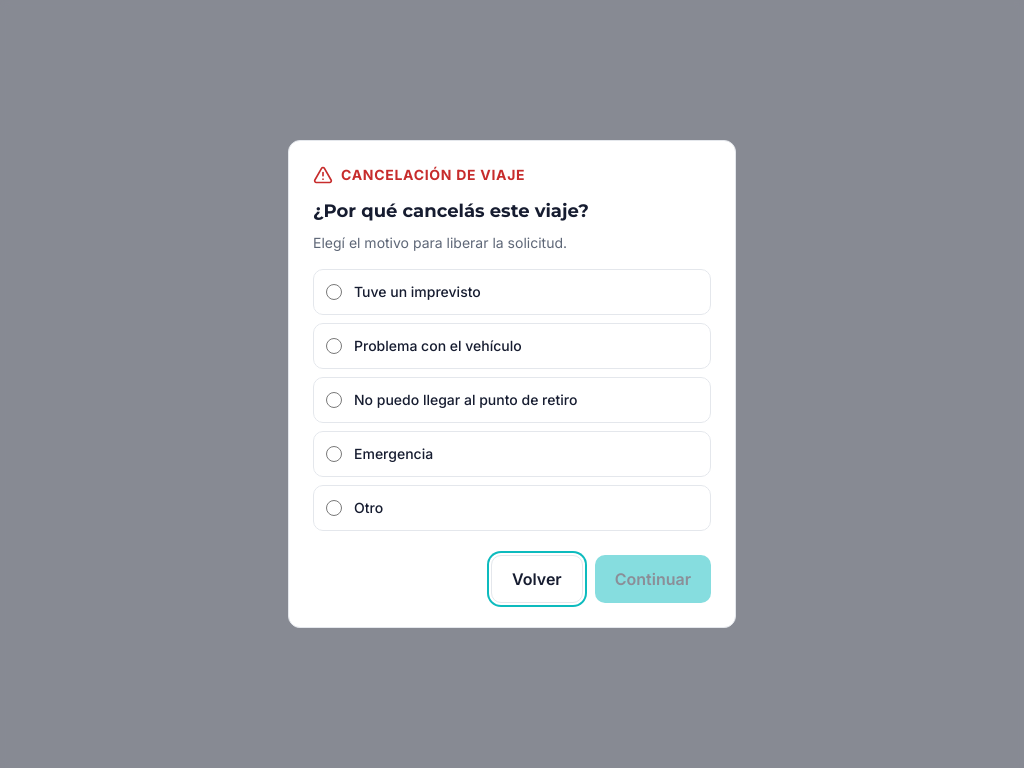
Test: T-362: TripCancelDialog por rol › Rol Repartidor (actor="courier") › copy de confirmación en paso 2 advierte sobre liberación/republicación del viaje
Click the radio button labelled "Tuve un imprevisto": click(334, 292) top-left (326, 284), bottom-right (342, 300)
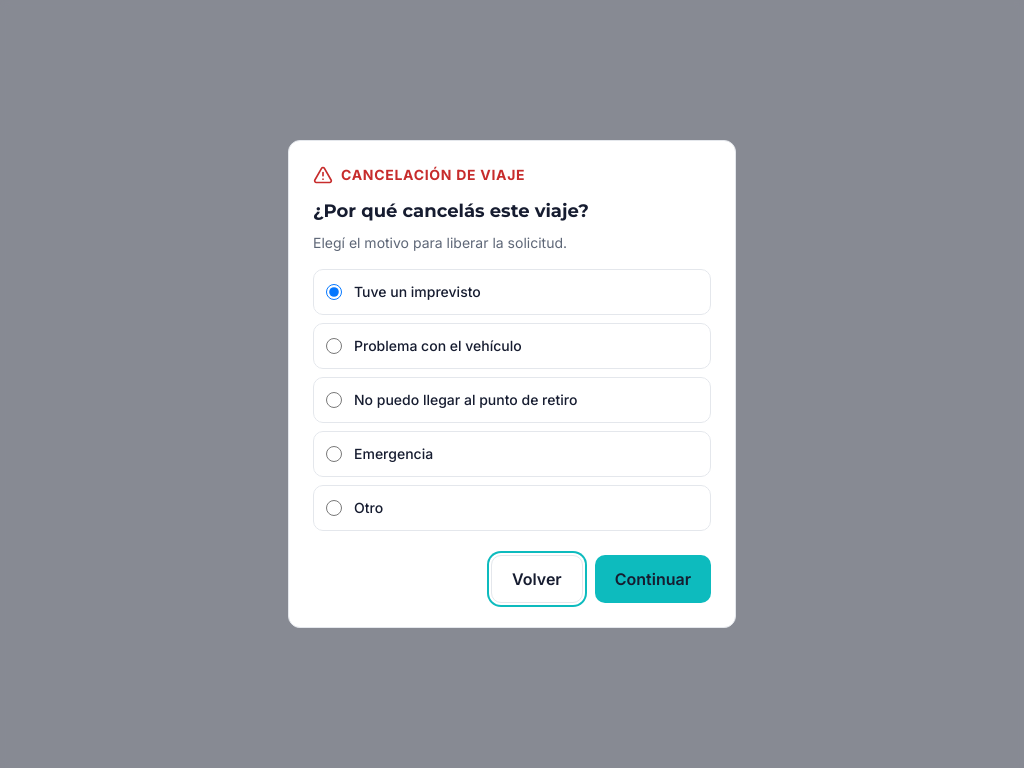
Click the button "Continuar": click(653, 579) top-left (595, 555), bottom-right (711, 603)
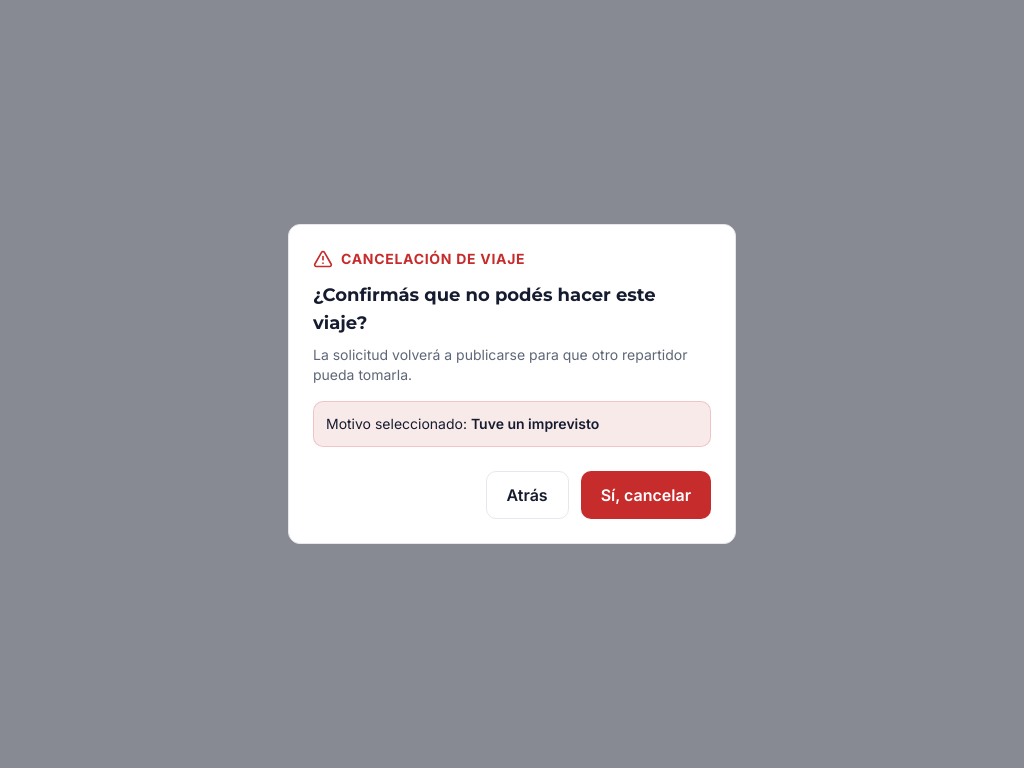
Now the heading "¿Confirmás que no podés hacer este viaje?" is shown, box top-left (313, 281), bottom-right (711, 337)
Now the text "La solicitud volverá a publicarse para que otro repartidor pueda tomarla." is shown, box top-left (313, 345), bottom-right (711, 385)
